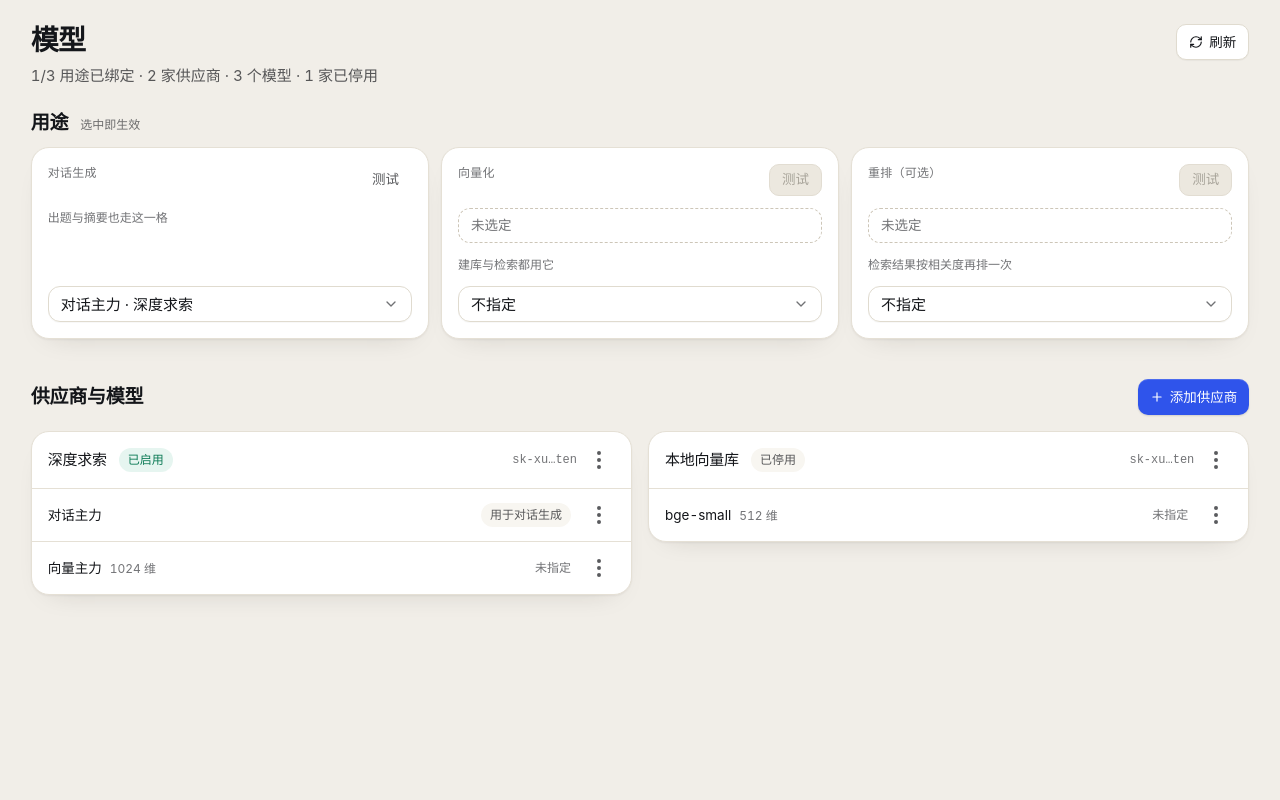
模型页：用途绑定 › 测槽结果就地摊在那一行下面：通过与失败各一种
expect the text "对话生成" is shown: met, box left=48, top=164, right=97, bottom=182
Click the button with aria-label "测试「对话生成」": (385, 180) left=359, top=164, right=412, bottom=196
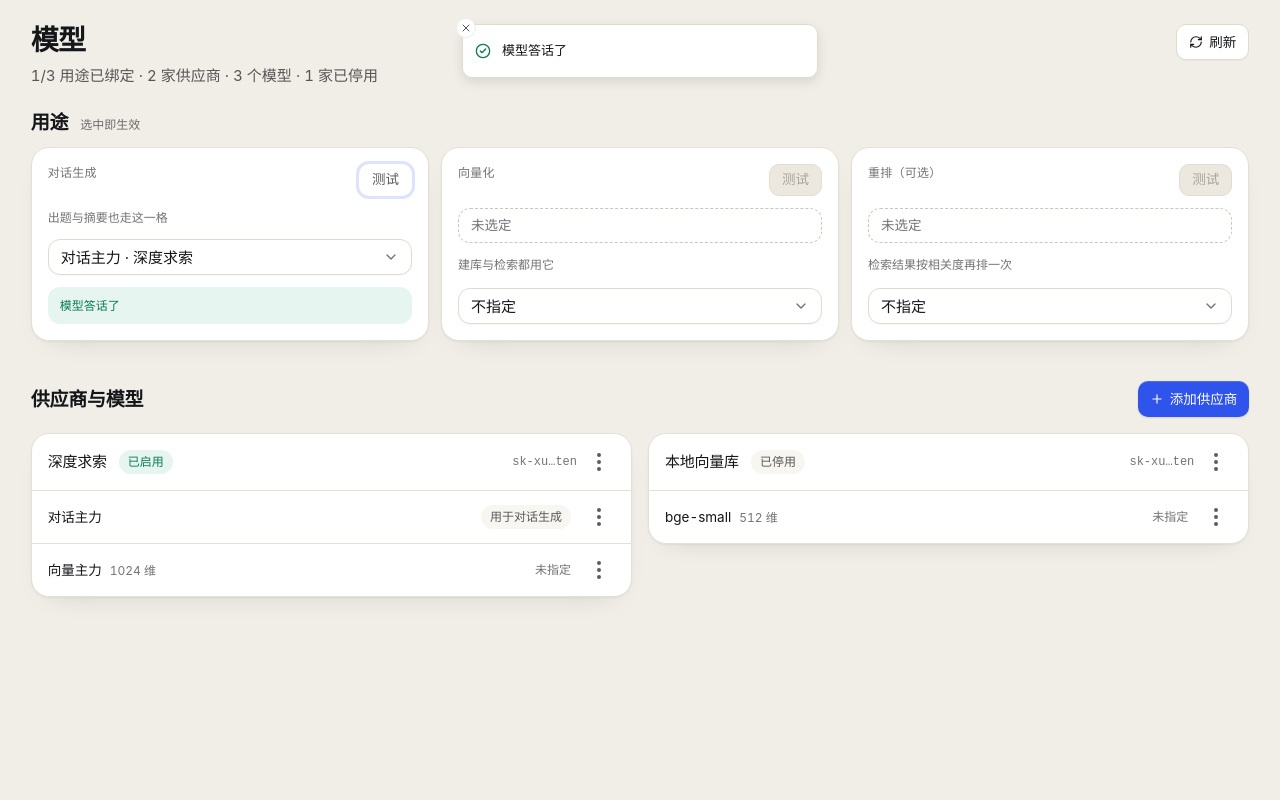
expect the text "模型答话了" below "出题与摘要也走这一格" is shown: met, box left=60, top=298, right=120, bottom=313
Click the button with aria-label "测试「对话生成」": (385, 180) left=359, top=164, right=412, bottom=196
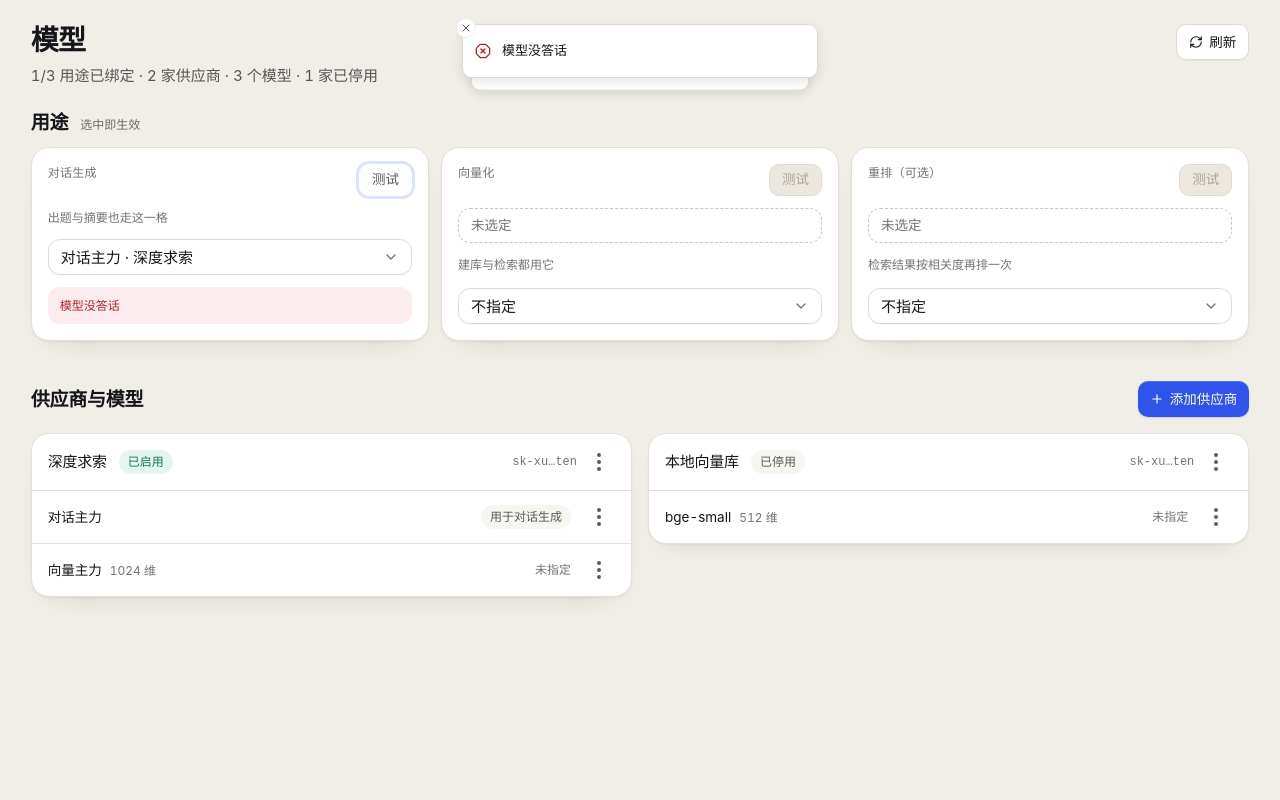
expect the text "模型没答话" below "出题与摘要也走这一格" is shown: met, box left=60, top=298, right=120, bottom=313
